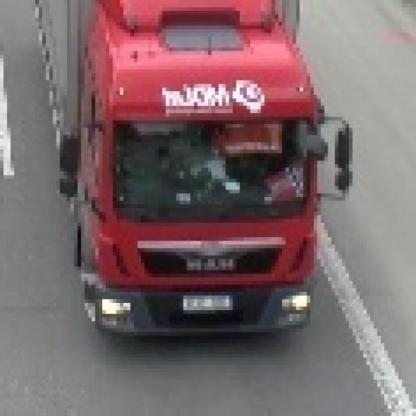truck: (26, 1, 350, 344)
